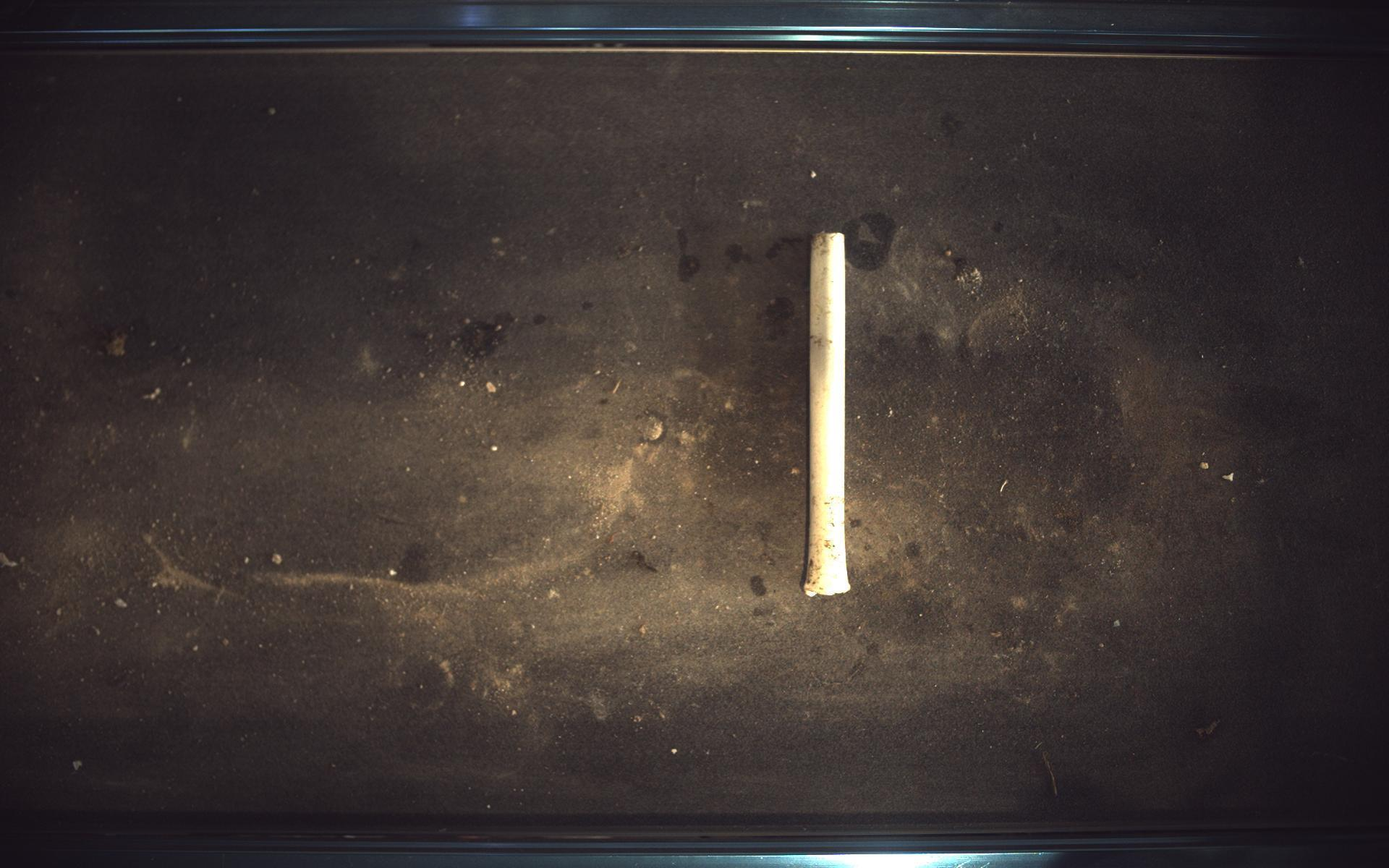pipes: (805, 231, 851, 597)
